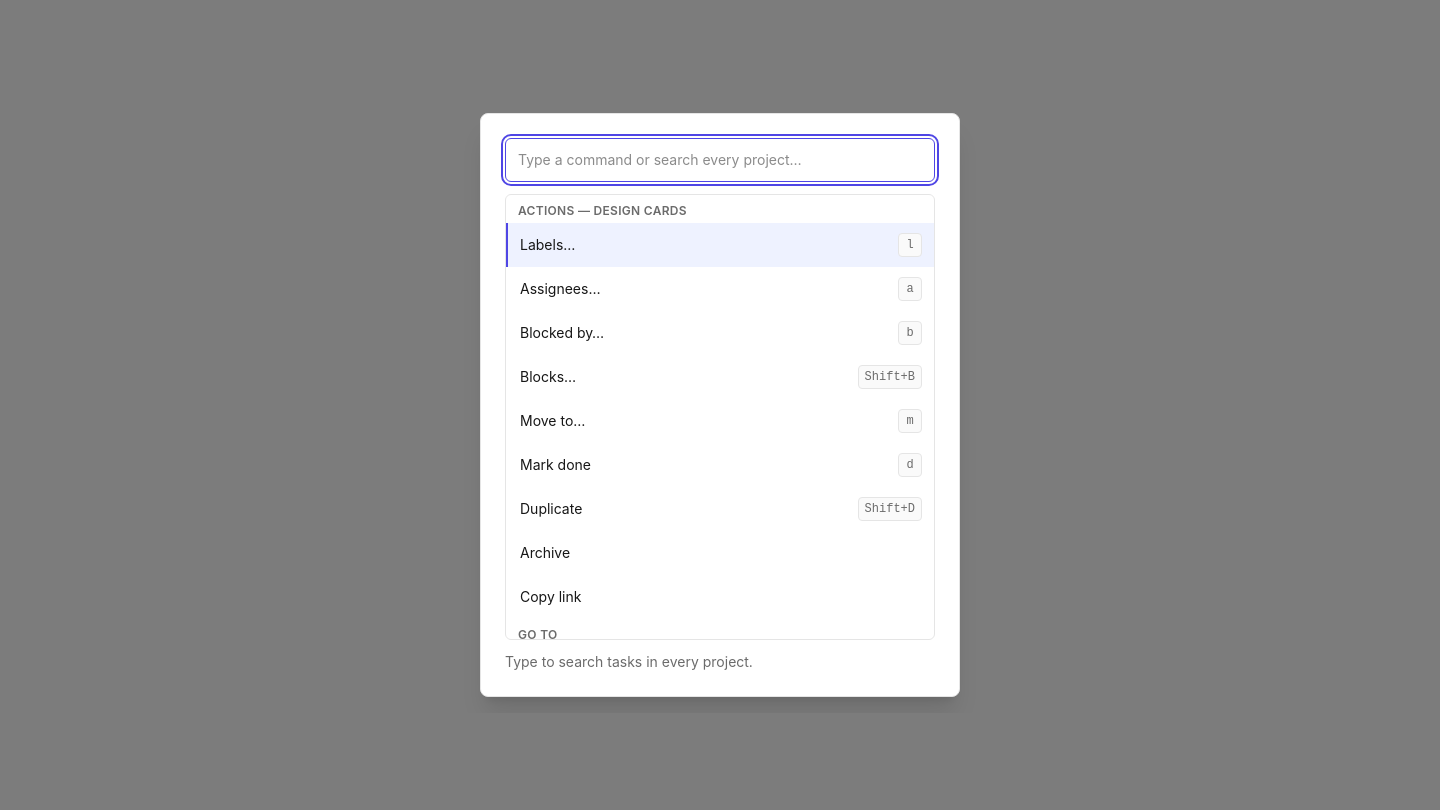
search › warns when the server capped the result set
The image size is (1440, 810).
Type "export" into the dropdown named "Command palette". click: (720, 160)
box: 505,138 -> 935,182
Wait 250 ms
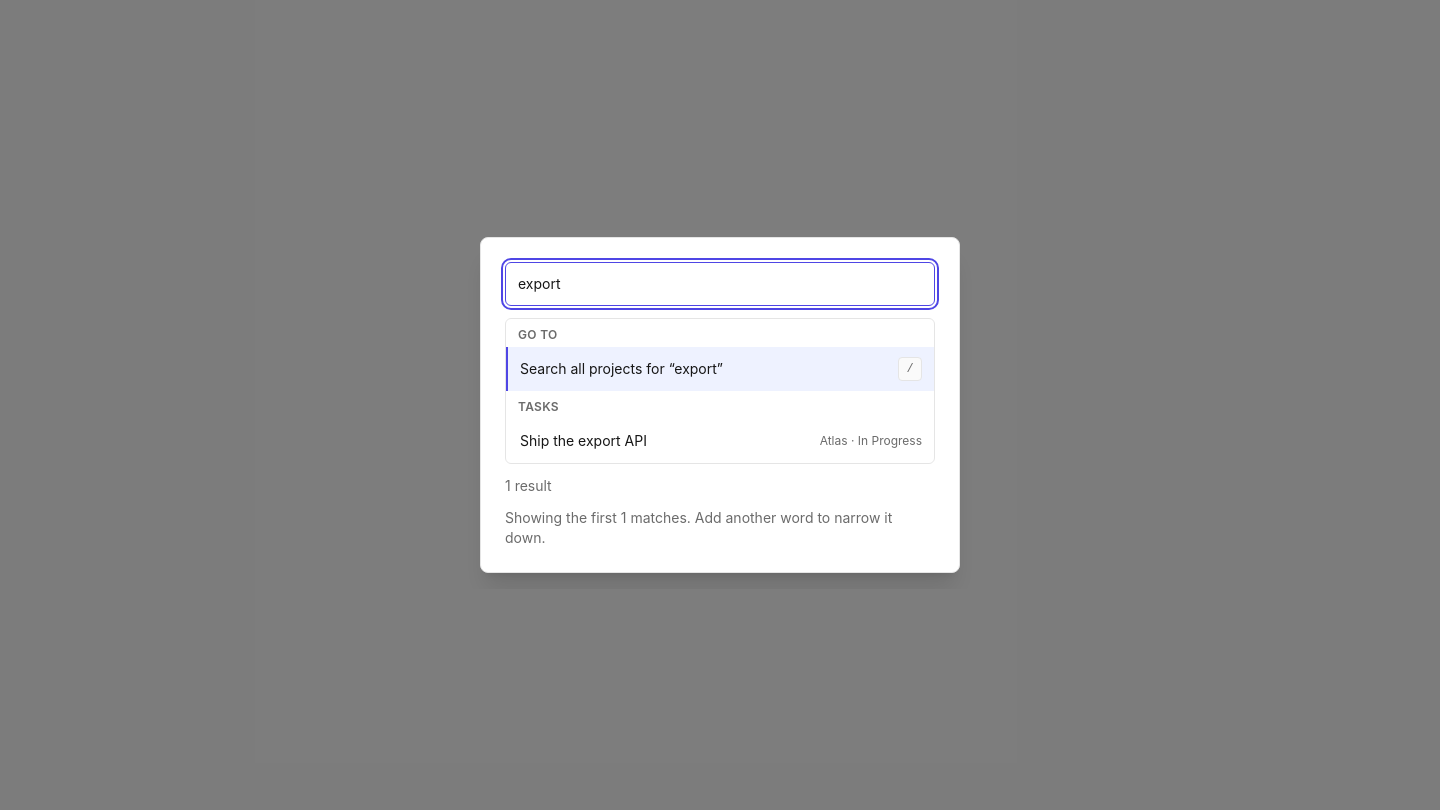
Now the text "Add another word to narrow it down" is shown, box 505,509 -> 892,546
